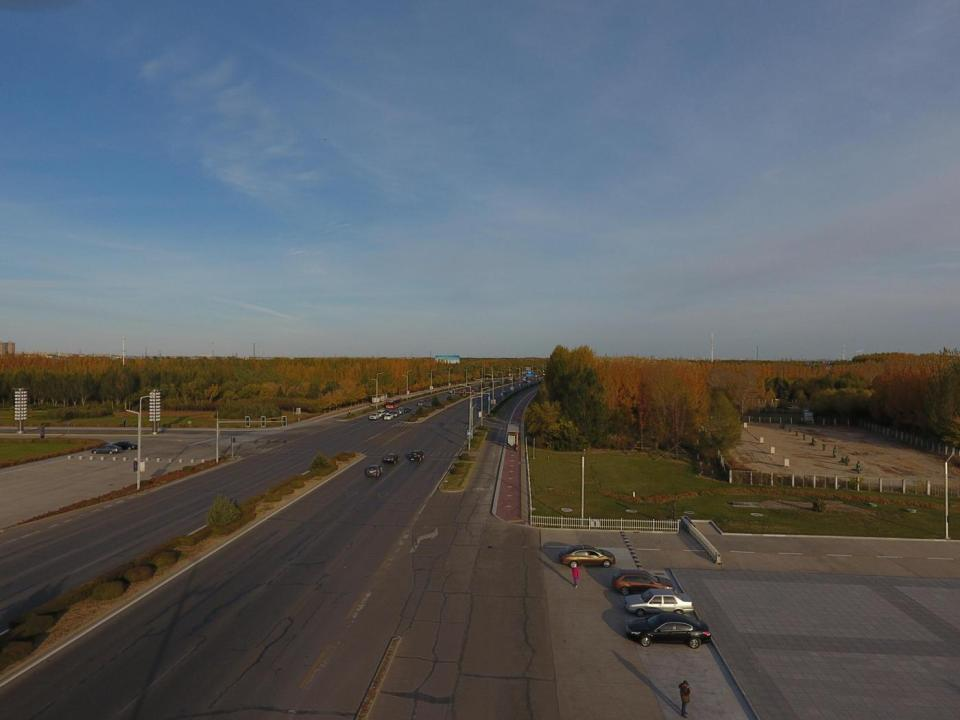bus: (386, 397, 400, 410)
car: (625, 612, 712, 649), (624, 588, 693, 616), (612, 570, 674, 596), (559, 545, 616, 567), (90, 444, 122, 455), (109, 440, 141, 451), (365, 464, 384, 477), (382, 453, 401, 464), (408, 448, 424, 461), (369, 412, 380, 419), (384, 413, 393, 421), (392, 410, 400, 418), (404, 406, 412, 414), (417, 400, 424, 406), (424, 396, 431, 402), (384, 410, 391, 415)
van: (375, 410, 385, 417), (396, 406, 404, 413)
